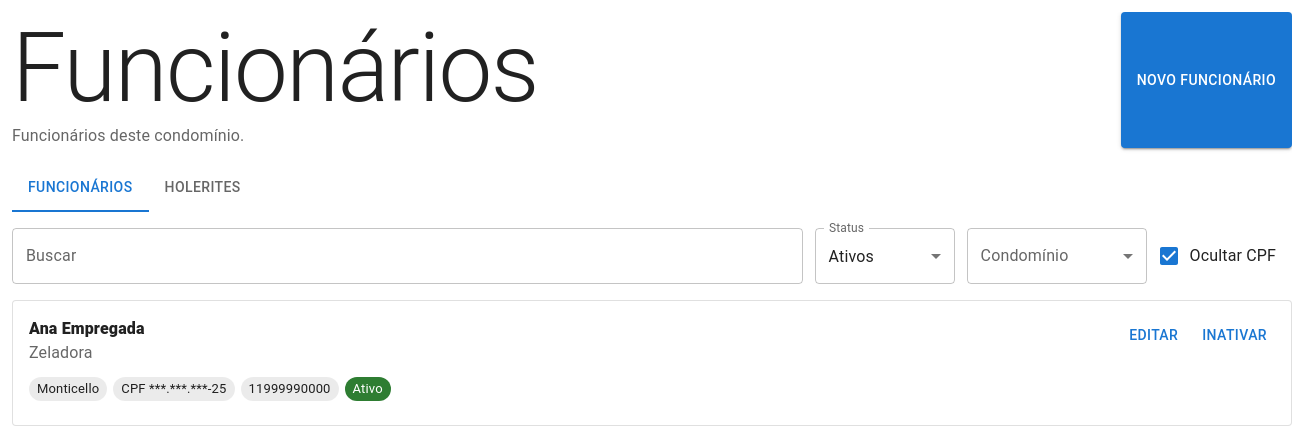
it: EmployeesManager activate/inactivate regression › keeps the card fully populated through inactivate then reactivate — never blank
Expected: the text "Ana Empregada" is shown, [29, 319, 145, 338]
Click the button "Inativar". click: [1235, 335]
box: [1194, 317, 1275, 354]
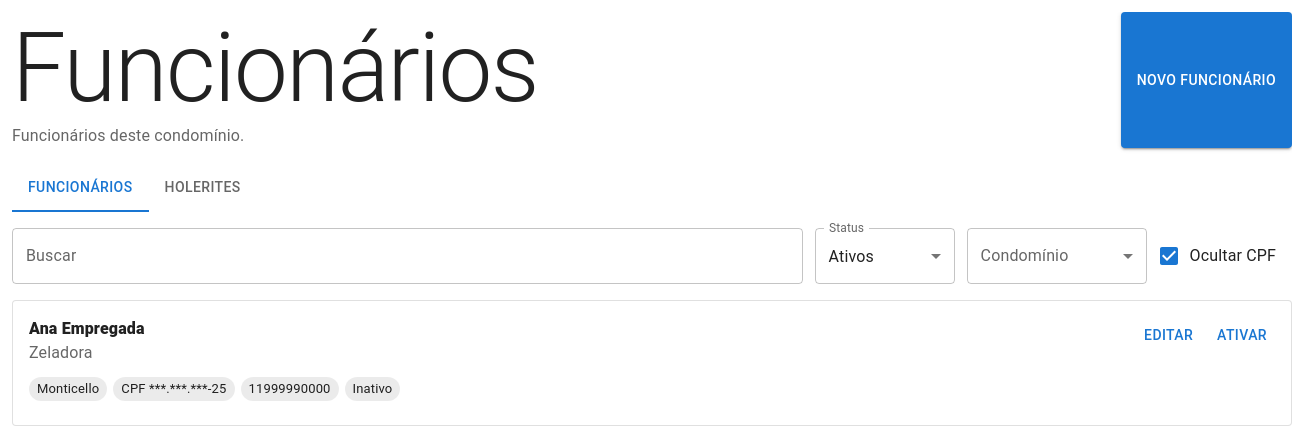
Expected: the text "Ana Empregada" is shown, [29, 319, 145, 338]
Expected: the text "Inativo" is shown, [353, 381, 392, 396]
Click the button "Ativar". click: [1242, 335]
box: [1209, 317, 1275, 354]
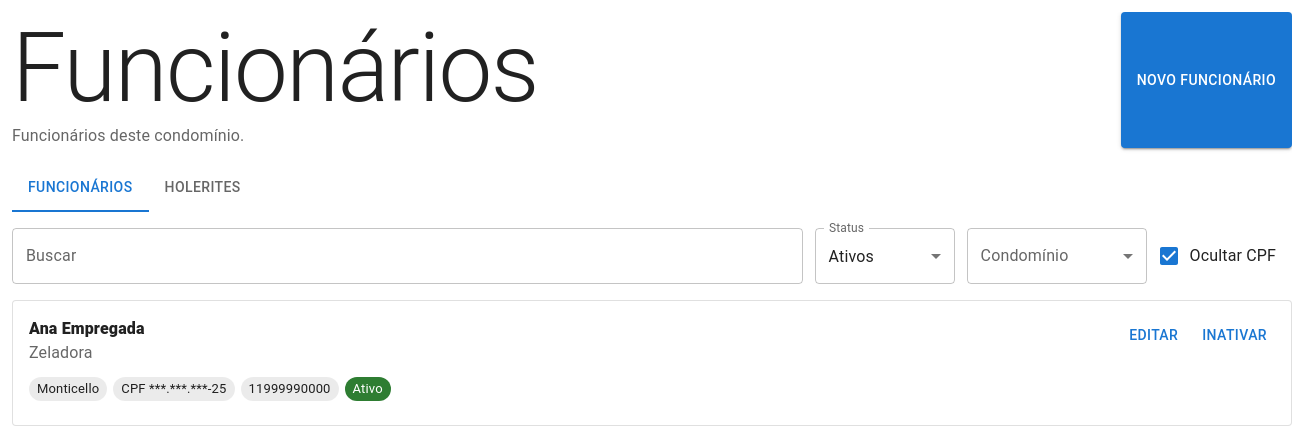
Expected: the text "Ativo" is shown, [353, 381, 383, 396]
Expected: the button "Inativar" is shown, [1194, 317, 1275, 354]
